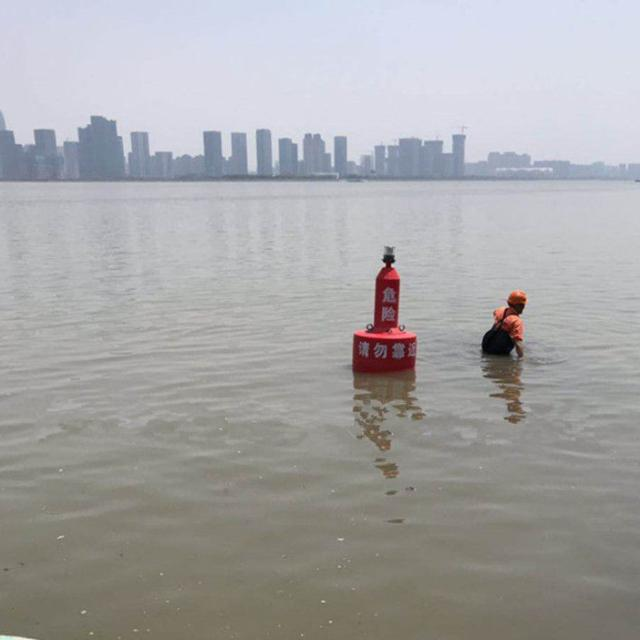buoy: (350, 236, 420, 376)
